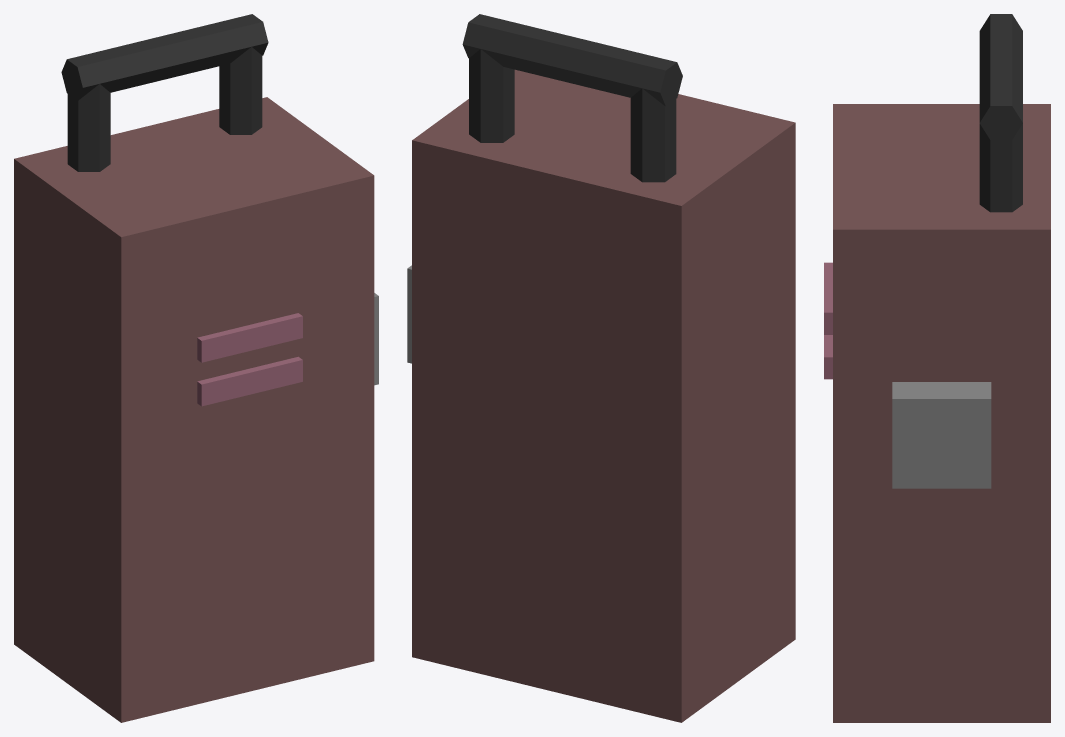
The model's file is ce_ammo2_flame_bio_a.obj.
The picture shows the model from 3 angles, left to right: view 1: azimuth 30°, elevation 25°; view 2: azimuth 150°, elevation 25°; view 3: azimuth 270°, elevation 25°; orthographic projection. The views are drawn at different scales.
Visible parts, largest first — view 1: ce_ammo2_flame_bio_a_0, ce_ammo2_flame_bio_a_6, ce_ammo2_flame_bio_a_5, ce_ammo2_flame_bio_a_4, ce_ammo2_flame_bio_a_2, ce_ammo2_flame_bio_a_1; view 2: ce_ammo2_flame_bio_a_0, ce_ammo2_flame_bio_a_6, ce_ammo2_flame_bio_a_5, ce_ammo2_flame_bio_a_4; view 3: ce_ammo2_flame_bio_a_0, ce_ammo2_flame_bio_a_3, ce_ammo2_flame_bio_a_6, ce_ammo2_flame_bio_a_4, ce_ammo2_flame_bio_a_2, ce_ammo2_flame_bio_a_1.
Part boxes in pixels (x1=…): ce_ammo2_flame_bio_a_0: x1=14, y1=97, x2=374, y2=722; ce_ammo2_flame_bio_a_6: x1=61, y1=14, x2=268, y2=100; ce_ammo2_flame_bio_a_5: x1=67, y1=84, x2=110, y2=171; ce_ammo2_flame_bio_a_4: x1=219, y1=47, x2=262, y2=134; ce_ammo2_flame_bio_a_2: x1=197, y1=313, x2=302, y2=362; ce_ammo2_flame_bio_a_1: x1=197, y1=356, x2=302, y2=406; ce_ammo2_flame_bio_a_0: x1=412, y1=69, x2=795, y2=722; ce_ammo2_flame_bio_a_6: x1=462, y1=14, x2=682, y2=106; ce_ammo2_flame_bio_a_5: x1=630, y1=88, x2=676, y2=182; ce_ammo2_flame_bio_a_4: x1=469, y1=49, x2=514, y2=142; ce_ammo2_flame_bio_a_0: x1=833, y1=104, x2=1050, y2=722; ce_ammo2_flame_bio_a_3: x1=892, y1=382, x2=991, y2=488; ce_ammo2_flame_bio_a_6: x1=979, y1=14, x2=1022, y2=140; ce_ammo2_flame_bio_a_4: x1=979, y1=124, x2=1022, y2=212; ce_ammo2_flame_bio_a_2: x1=824, y1=262, x2=832, y2=334; ce_ammo2_flame_bio_a_1: x1=824, y1=335, x2=832, y2=379.
Bounding box in the file's own units: 0.34 × 0.6691 × 0.229.
